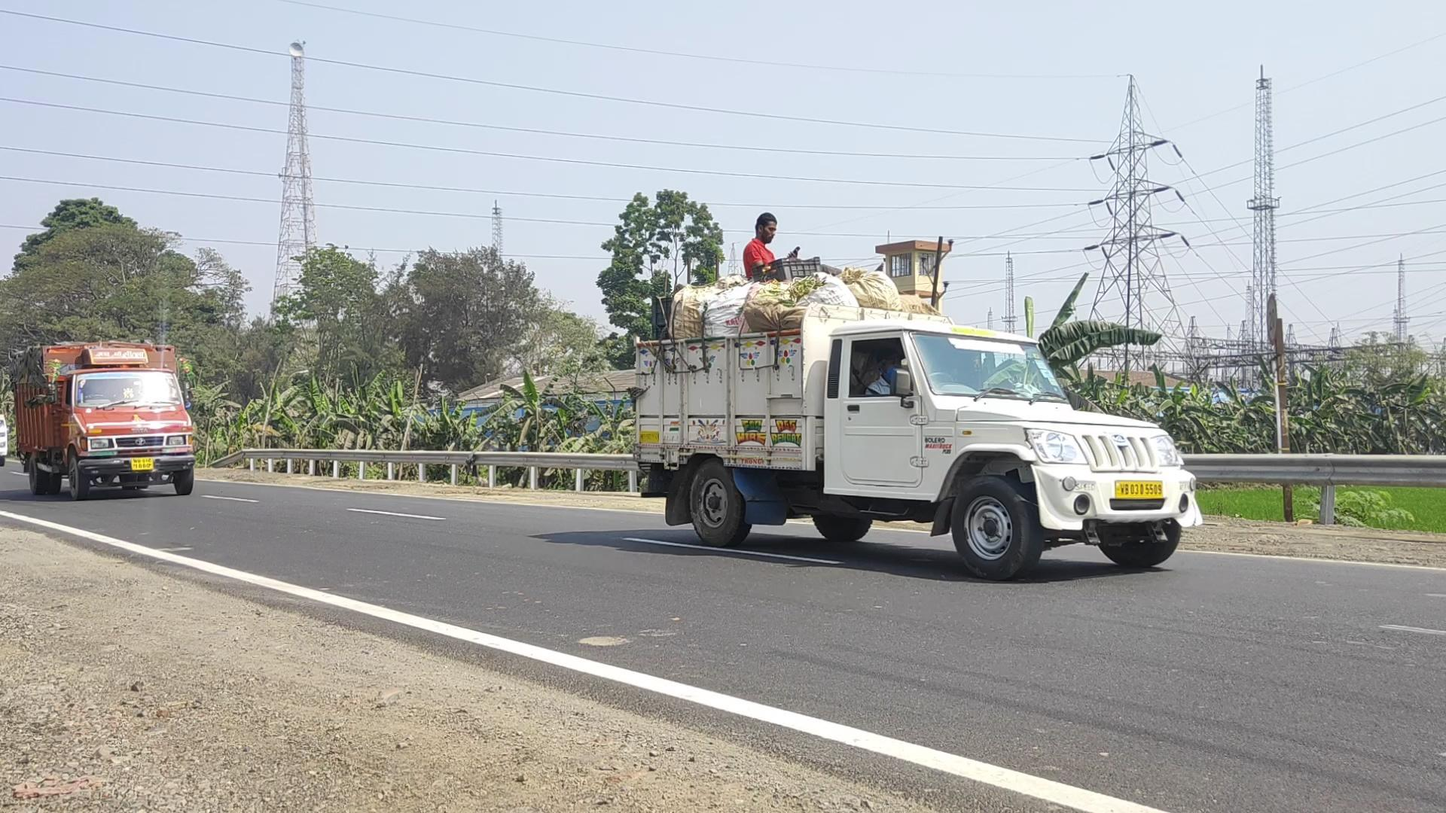truck: (11, 341, 195, 501)
van: (630, 213, 1204, 583)
